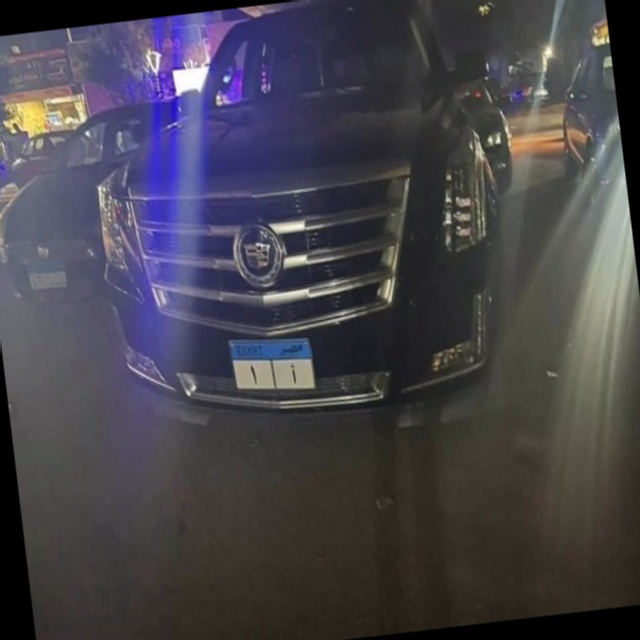License Plate: (224, 328, 319, 396)
